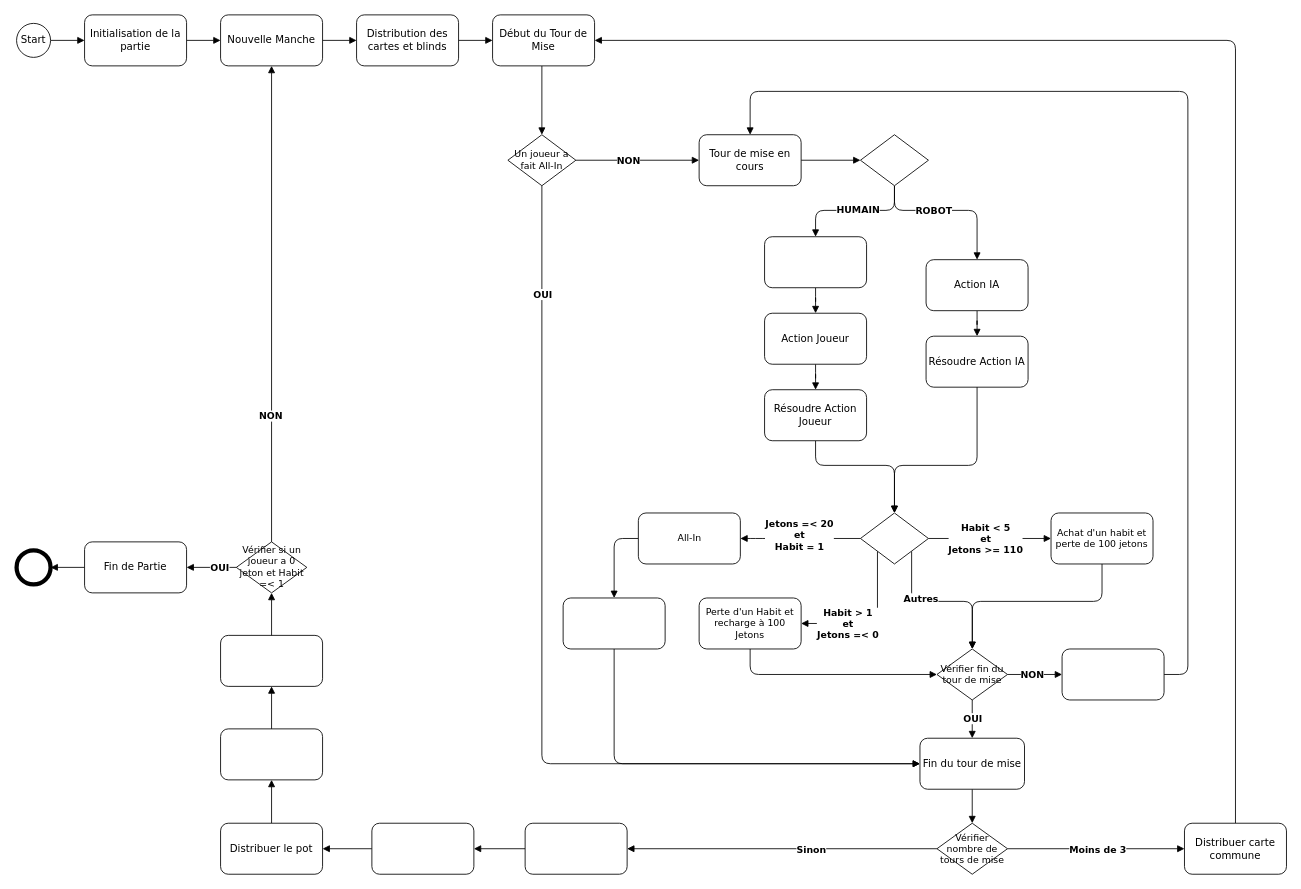
The diagram is 1301 pixels wide and 889 high, and some of its shapes have lost their labels. Each missing label, with the box of its shape:
Afficher menu joueur: (764, 236, 867, 288)
Changer de joueur: (1061, 648, 1164, 700)
Déterminer le gagnant: (371, 822, 474, 874)
Fin: (14, 548, 52, 586)
Fin de Manche: (220, 635, 323, 686)
Remise à zéro du pot et des mises: (220, 728, 323, 780)
Second joueur s'aligne sur la mise: (562, 597, 665, 649)
Showdown: (524, 822, 627, 874)
Tour du Joueur?: (860, 134, 928, 186)
Vérifier Habit et Jetons joueur: (860, 512, 928, 564)
